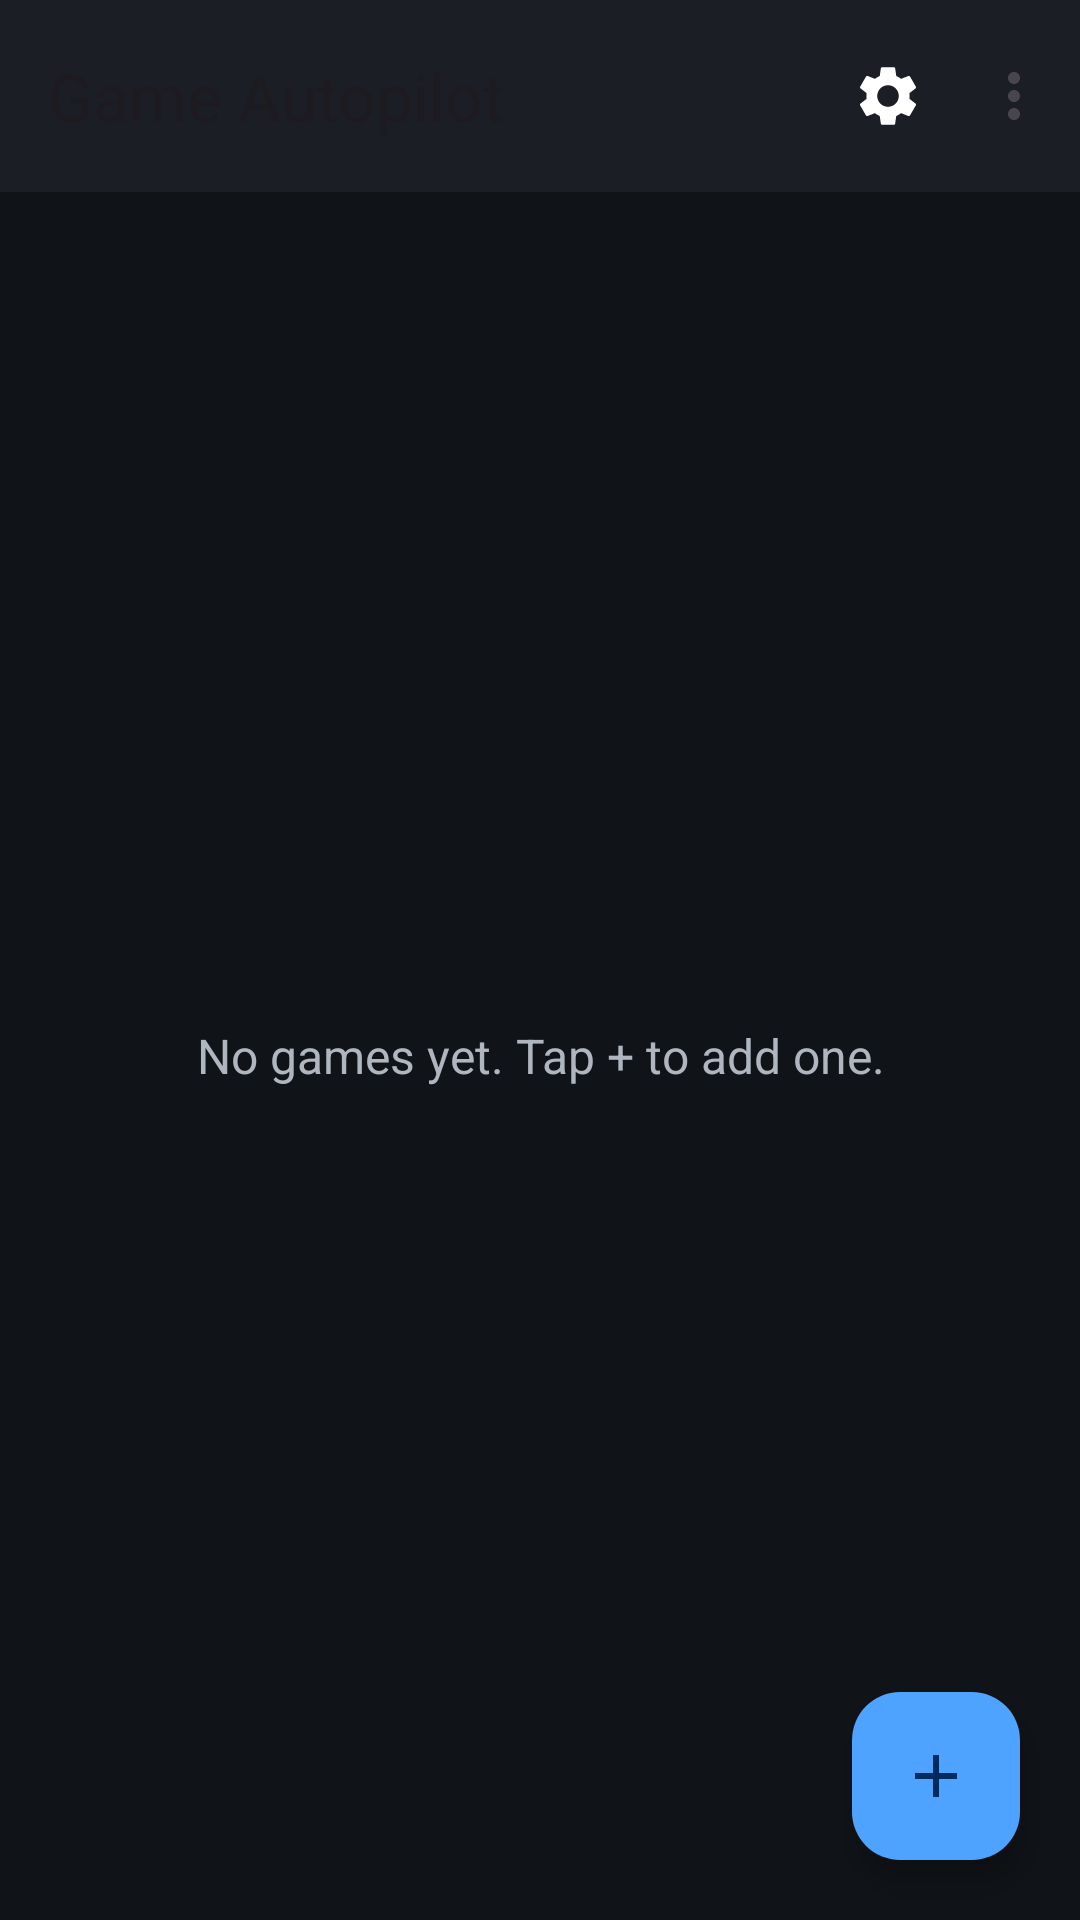

Screen size 1080×1920. Icon name, then its box in pixels as (left=x1, top=y1, right=x2, bottom=y2):
Add Game: (left=852, top=1692, right=1020, bottom=1860)
